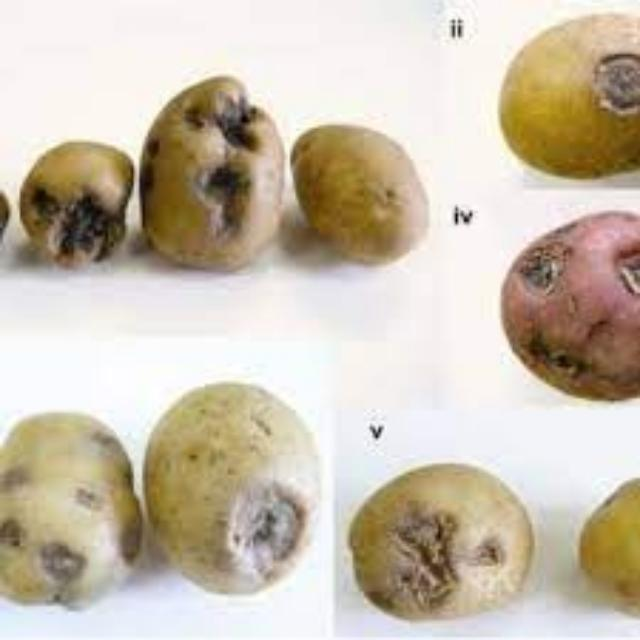Damaged potato: (8, 127, 148, 275)
Diseased-fungal potato: (135, 358, 327, 612), (133, 56, 290, 290), (482, 207, 640, 406), (342, 466, 536, 620), (0, 410, 138, 610), (494, 22, 640, 178)
Potato: (271, 118, 459, 276)
